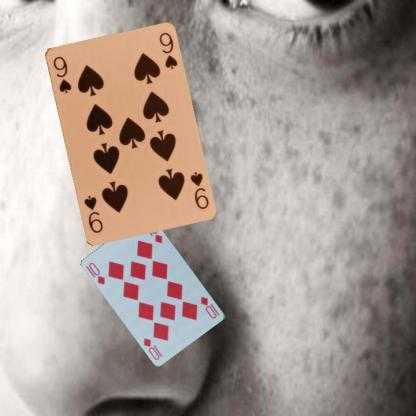10d: (198, 294, 221, 320), (86, 260, 106, 286)
9s: (187, 169, 210, 210), (50, 53, 72, 95)
